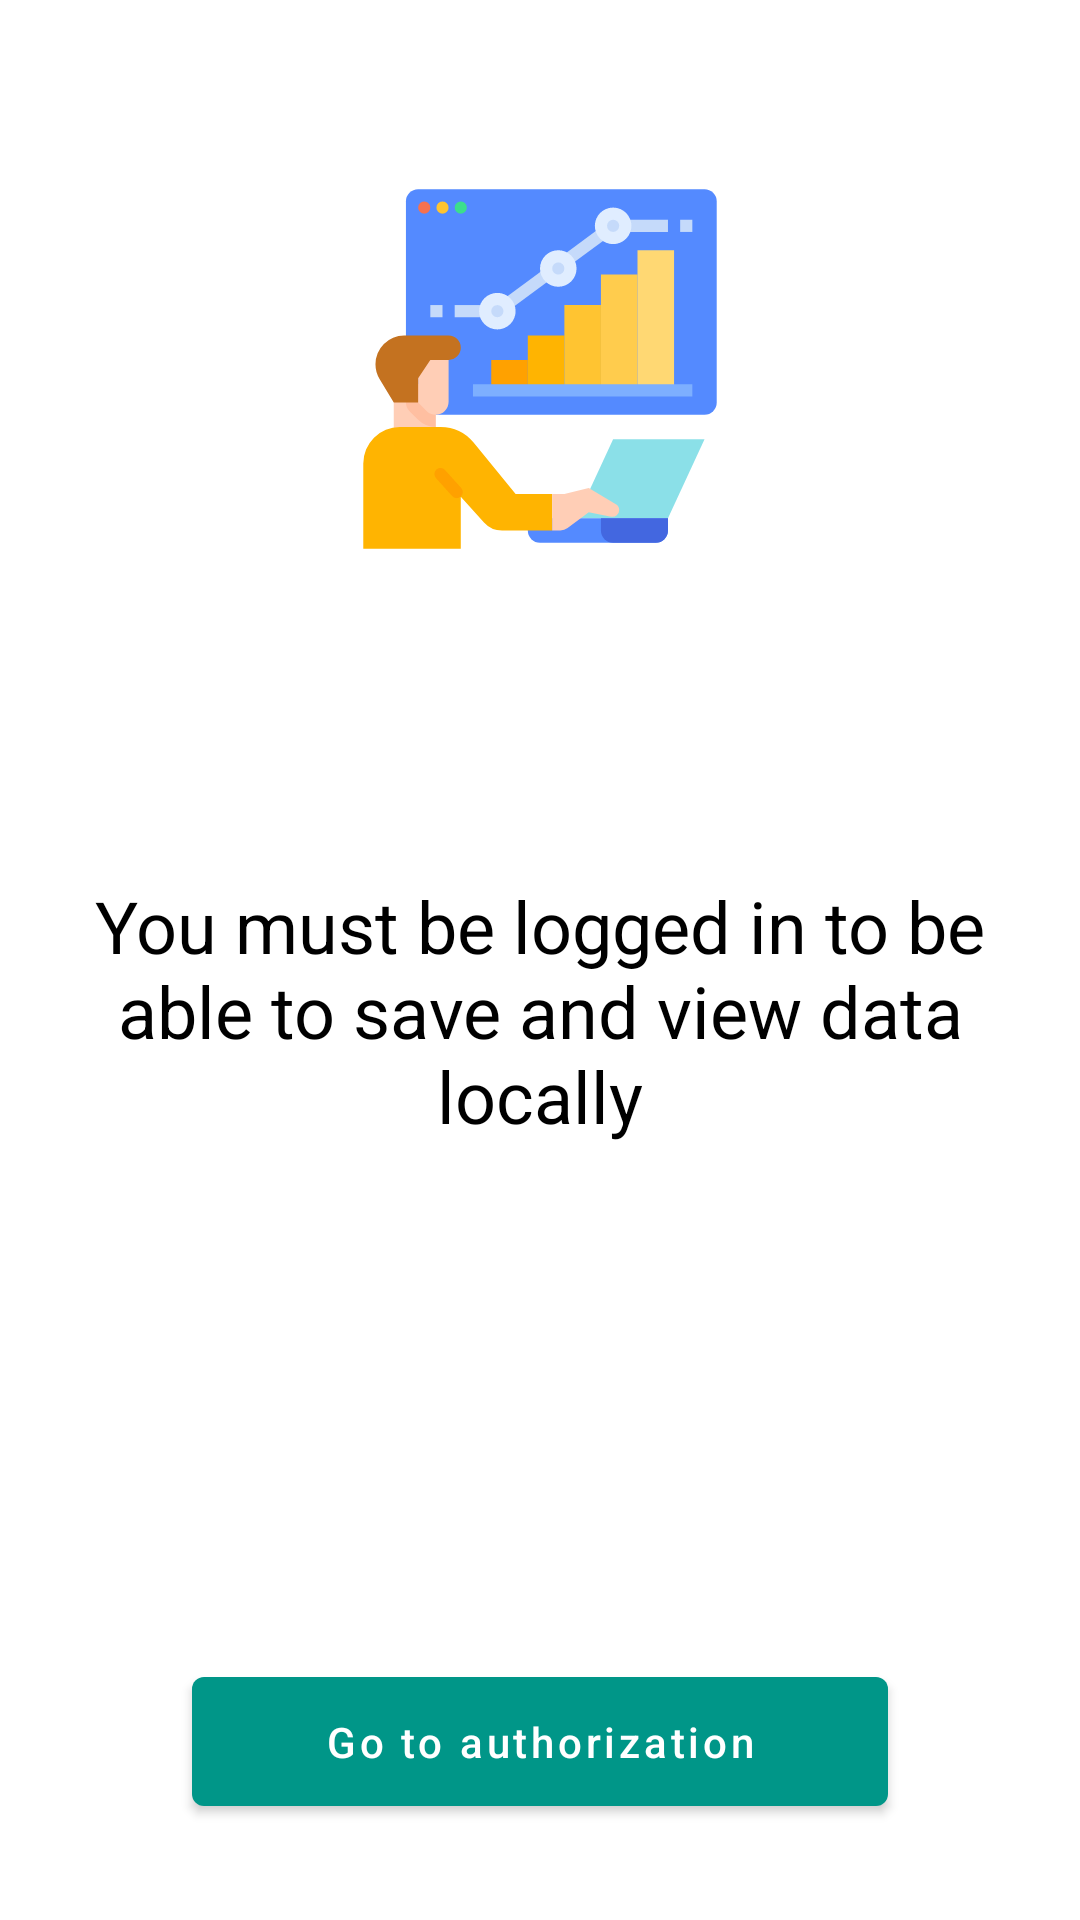

Point at icon controls on the screen. Image size 1080 × 1920, points as [x,y].
monitoring: [540,369]
